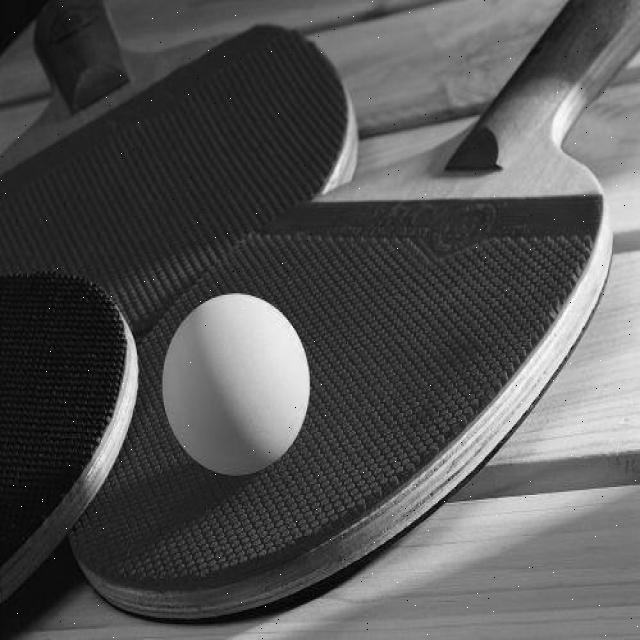ping-pong-ball: (162, 291, 314, 478)
